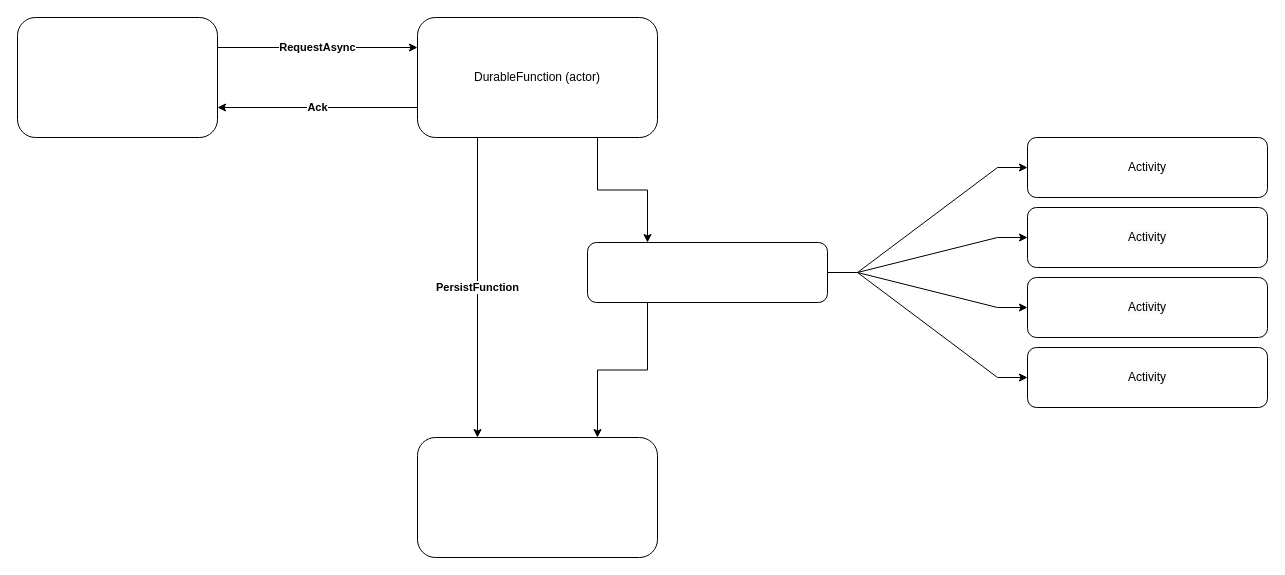
This 1285x575 diagram has some shape labels left out. Each missing label, with the box of its shape:
DurableContext: (586, 242, 828, 302)
DurablePlugin: (416, 436, 658, 558)
Something.: (16, 16, 218, 138)
